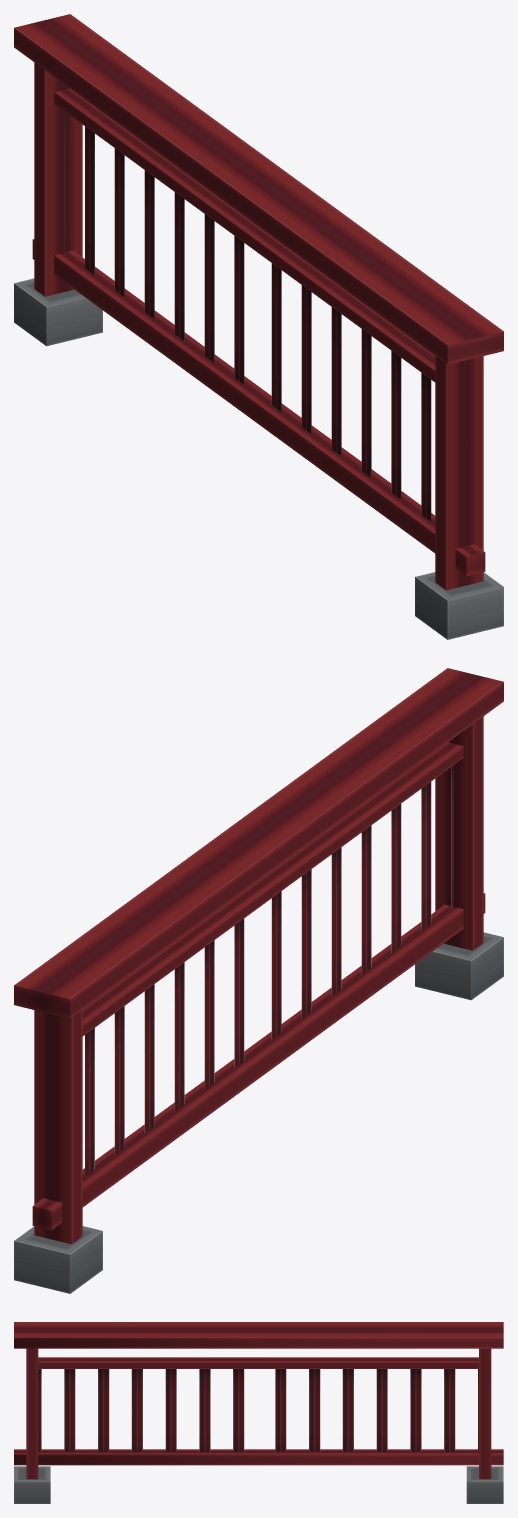
File: Scene_Bridge_Fence.FBX
3 renders of one model, top to bottom at view 1: azimuth 30°, elevation 25°; view 2: azimuth 150°, elevation 25°; view 3: azimuth 270°, elevation 25°, orthographic. The views are drawn at different scales.
Visible parts, largest first — view 1: Scene_Bridge_Fence; view 2: Scene_Bridge_Fence; view 3: Scene_Bridge_Fence.
Boxes of the visible parts, x1,y1,x2,y2 form: Scene_Bridge_Fence: (14,14,503,639); Scene_Bridge_Fence: (14,668,503,1293); Scene_Bridge_Fence: (14,1322,503,1503).
Size of the model in its own units: 30 by 150 by 400.
